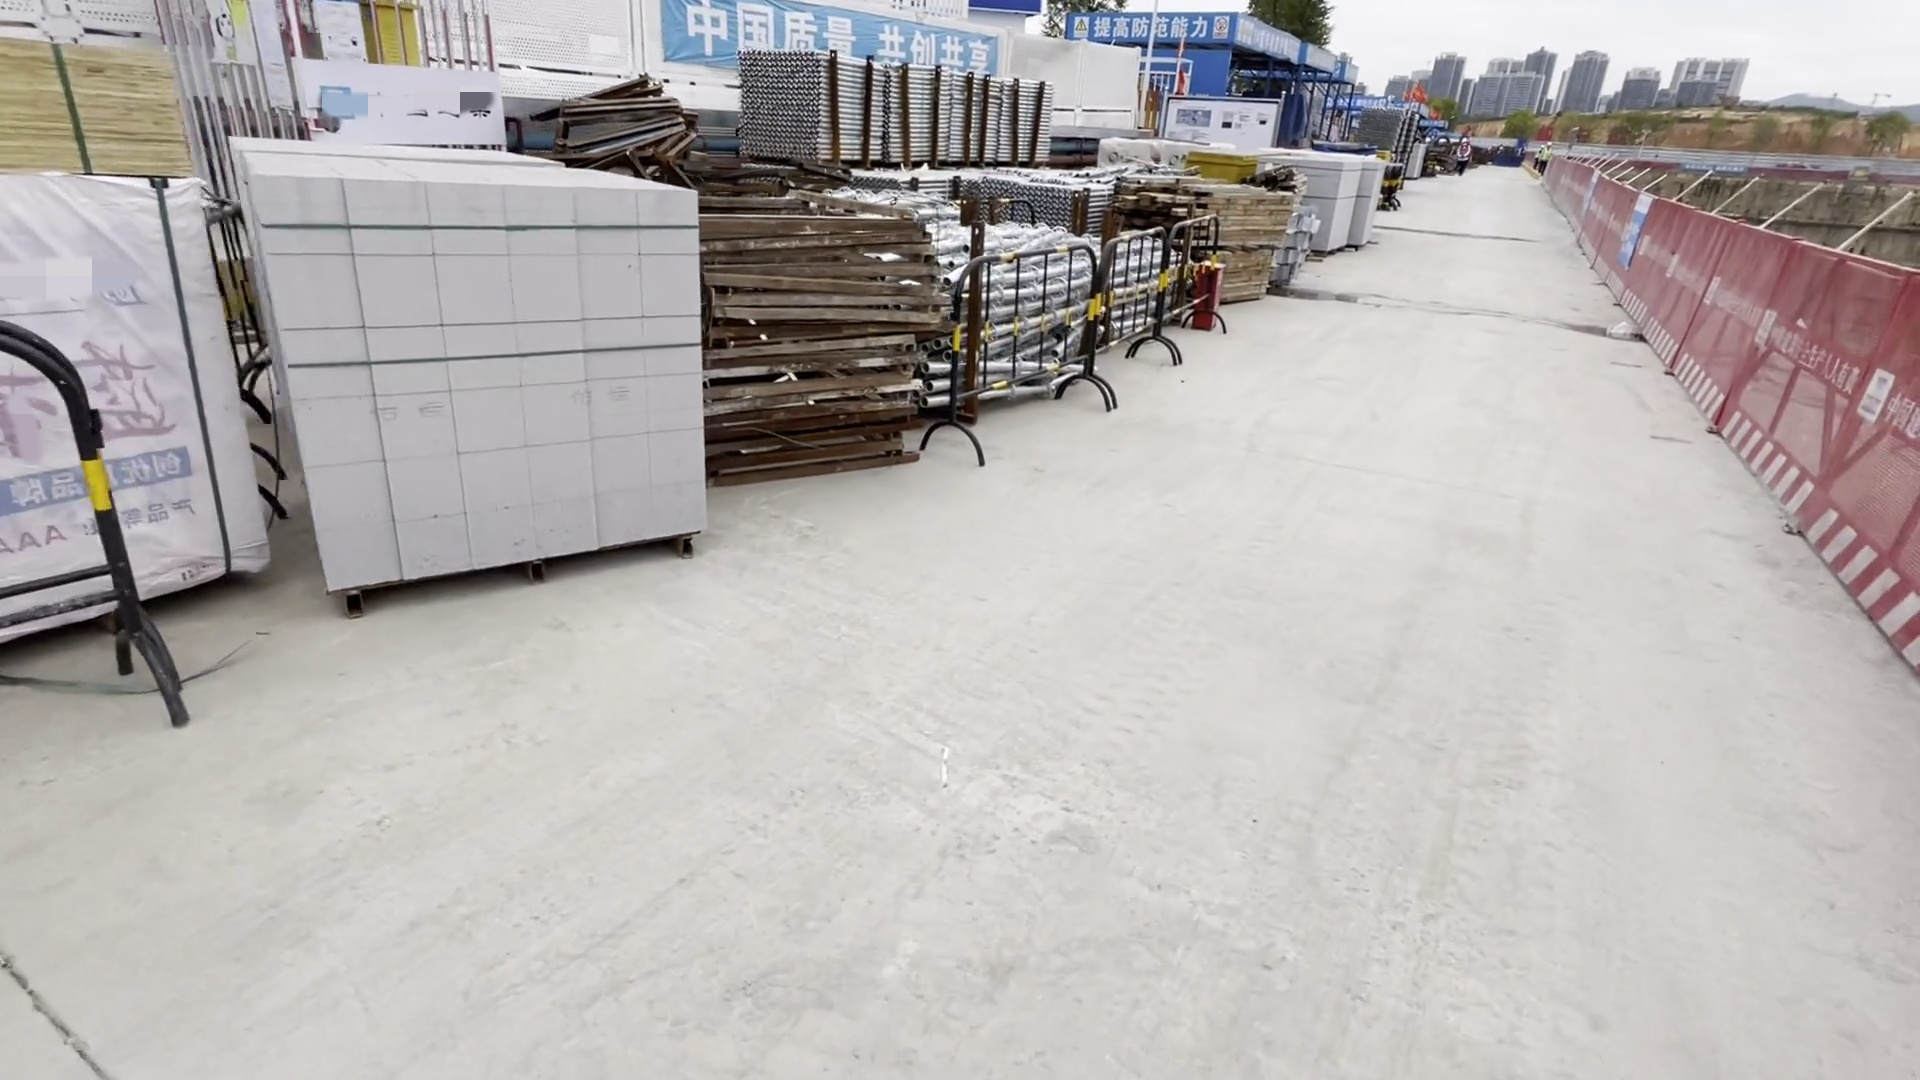brick: (202, 138, 708, 587), (1280, 149, 1393, 251)
fence: (1520, 154, 1920, 674)
scaffold: (735, 53, 1087, 204)
slogan: (684, 1, 1030, 98), (1044, 11, 1241, 41)
wood: (1191, 190, 1280, 326)
